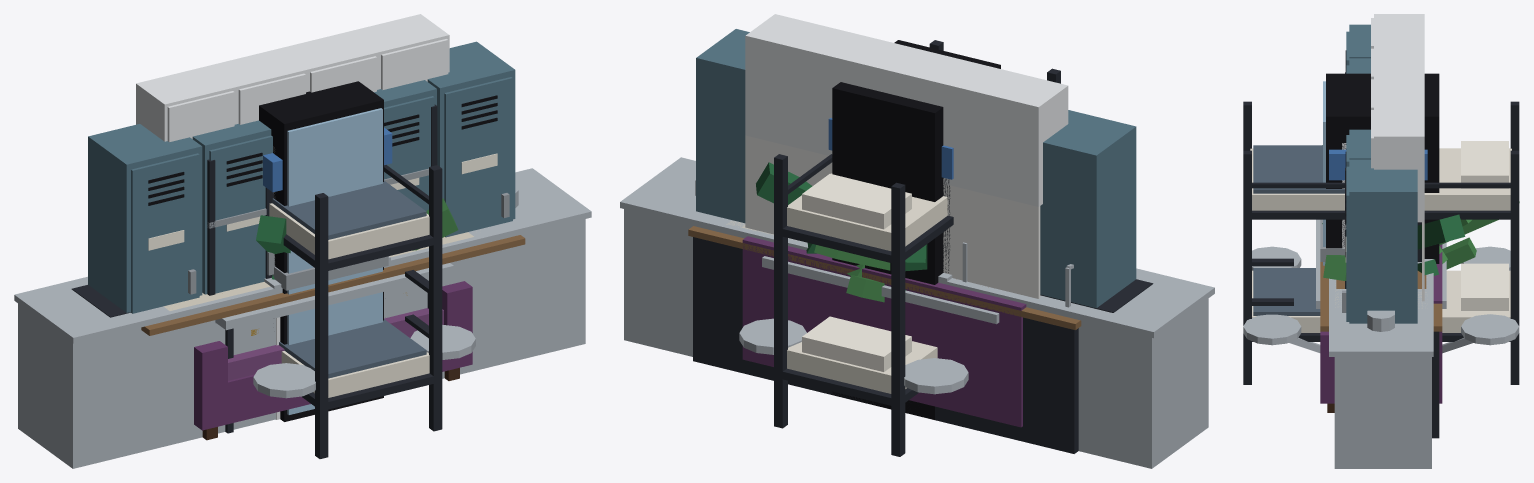
Rendered from berendezes.glb.
3 renders of one model, left to right at view 1: azimuth 30°, elevation 25°; view 2: azimuth 150°, elevation 25°; view 3: azimuth 270°, elevation 25°, orthographic. The views are drawn at different scales.
Parts seen in each view (by area): view 1: P_kitchen_steel, P_lockers, P_bunk, P_kitchen, P_rack, P_sofa, P_steel_table, P_console, P_atm, P_shelf, P_plant_big; view 2: P_kitchen, P_kitchen_steel, P_lockers, P_bunk, P_sofa, P_console, P_rack, P_steel_table, P_plant_big, P_plant, P_atm; view 3: P_bunk, P_kitchen_steel, P_lockers, P_kitchen, P_rack, P_steel_table, P_plant_big, P_sofa, P_console, P_atm, P_plant.
Part boxes in pixels (x1,y1,x2,y2): P_kitchen_steel: (14, 168, 591, 468); P_lockers: (88, 41, 515, 313); P_bunk: (269, 165, 442, 458); P_kitchen: (136, 14, 473, 323); P_rack: (259, 81, 383, 421); P_sofa: (194, 281, 472, 440); P_steel_table: (215, 263, 475, 398); P_console: (141, 235, 525, 335); P_atm: (263, 127, 392, 290); P_shelf: (207, 104, 437, 295); P_plant_big: (256, 198, 458, 253); P_kitchen: (742, 14, 1068, 298); P_kitchen_steel: (620, 157, 1214, 468); P_lockers: (696, 29, 1136, 308); P_bunk: (774, 40, 1060, 456); P_sofa: (742, 236, 1026, 427); P_console: (688, 226, 1081, 453); P_rack: (832, 40, 1000, 419); P_steel_table: (739, 256, 999, 394); P_plant_big: (756, 162, 927, 271); P_plant: (806, 243, 905, 302); P_atm: (828, 118, 953, 272); P_bunk: (1243, 101, 1519, 384); P_kitchen_steel: (1329, 273, 1433, 468); P_lockers: (1342, 24, 1417, 323); P_kitchen: (1371, 14, 1424, 301); P_rack: (1323, 73, 1439, 265); P_steel_table: (1243, 219, 1519, 353); P_plant_big: (1322, 145, 1519, 280); P_sofa: (1320, 244, 1442, 412); P_console: (1320, 262, 1442, 438); P_atm: (1320, 149, 1427, 261); P_plant: (1417, 237, 1476, 275).
Size of the model in its own units: 3.64 by 2.15 by 1.9.
